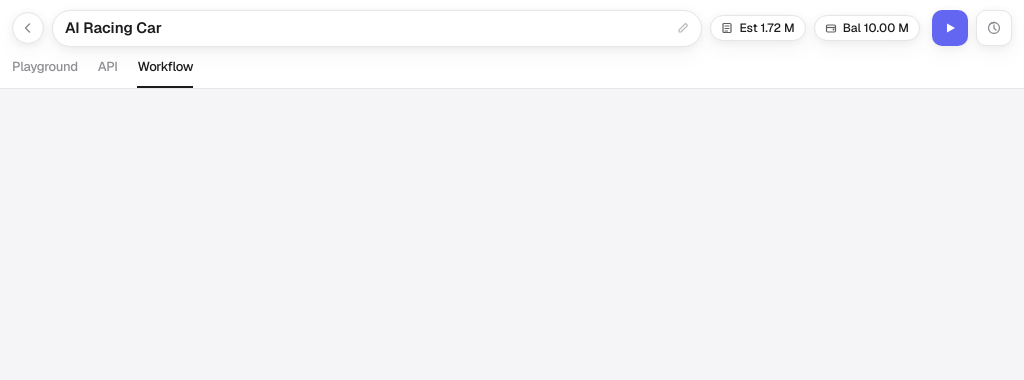
it: FE run triggers (Slice 8) › 402 insufficient_credits surfaces clear banner with need/have M
The width and height of the screenshot is (1024, 380).
Expected: the element with test id "workflow-editor" is shown, x1=0 y1=0 x2=1023 y2=89
Click the button with test id "workflow-play": (950,28) x1=932 y1=10 x2=968 y2=46
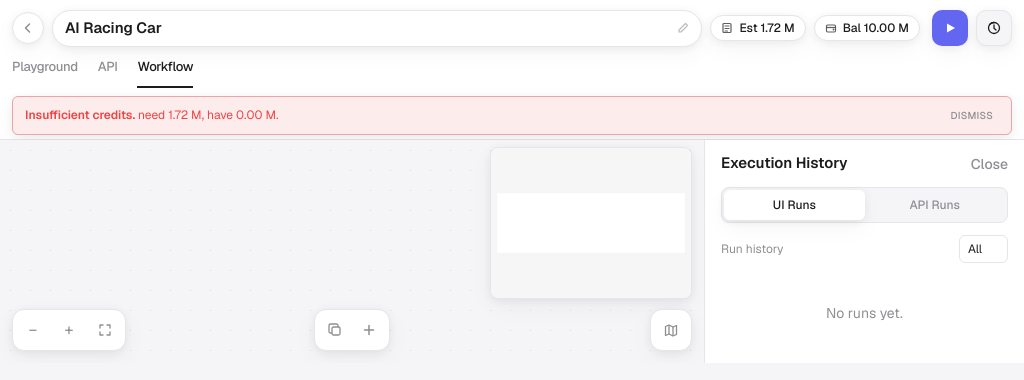
Expected: the element with test id "run-status-message" shows "Insufficient credits", x1=25 y1=107 x2=138 y2=123
Expected: the element with test id "run-status-message" shows "1.72 M", x1=138 y1=107 x2=278 y2=123
Expected: the element with test id "run-status-message" shows "0.00 M", x1=138 y1=107 x2=278 y2=123
Click the button with test id "run-status-dismiss": (972,116) x1=944 y1=107 x2=999 y2=124
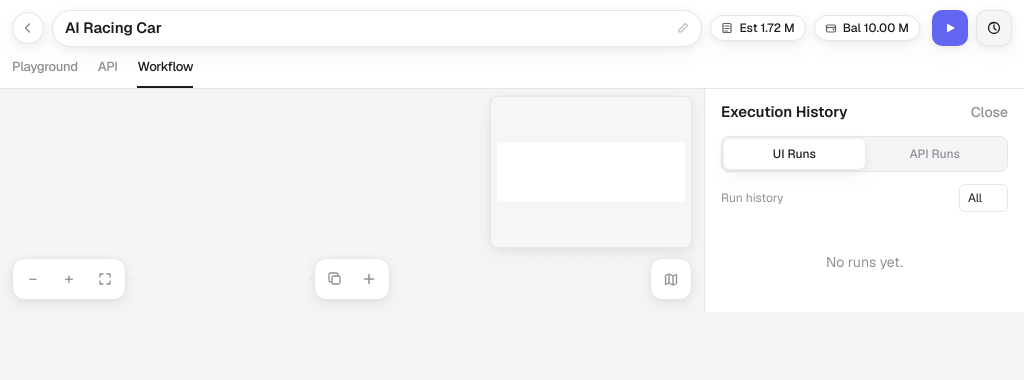
Expected: the message with test id "run-status" is gone
